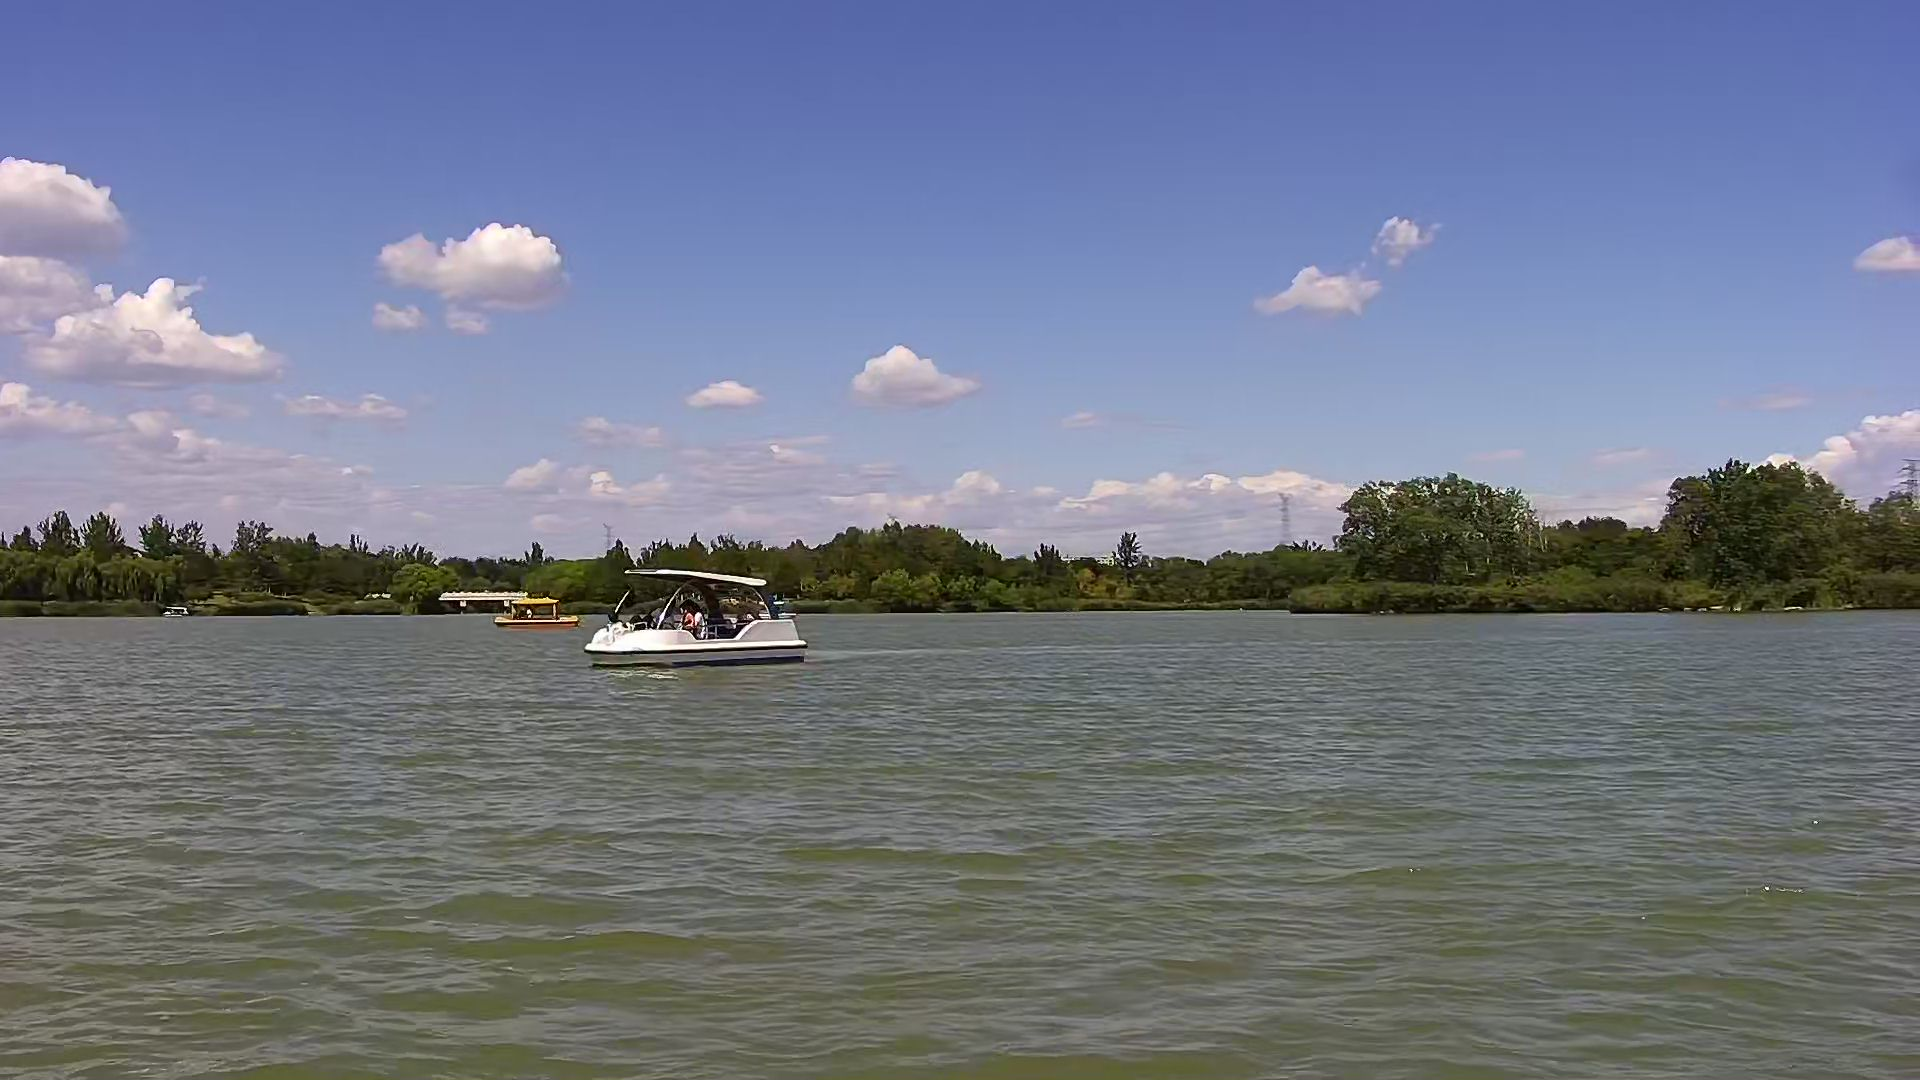boat: (588, 563, 806, 673), (498, 595, 575, 626)
bridge: (444, 589, 534, 613)
